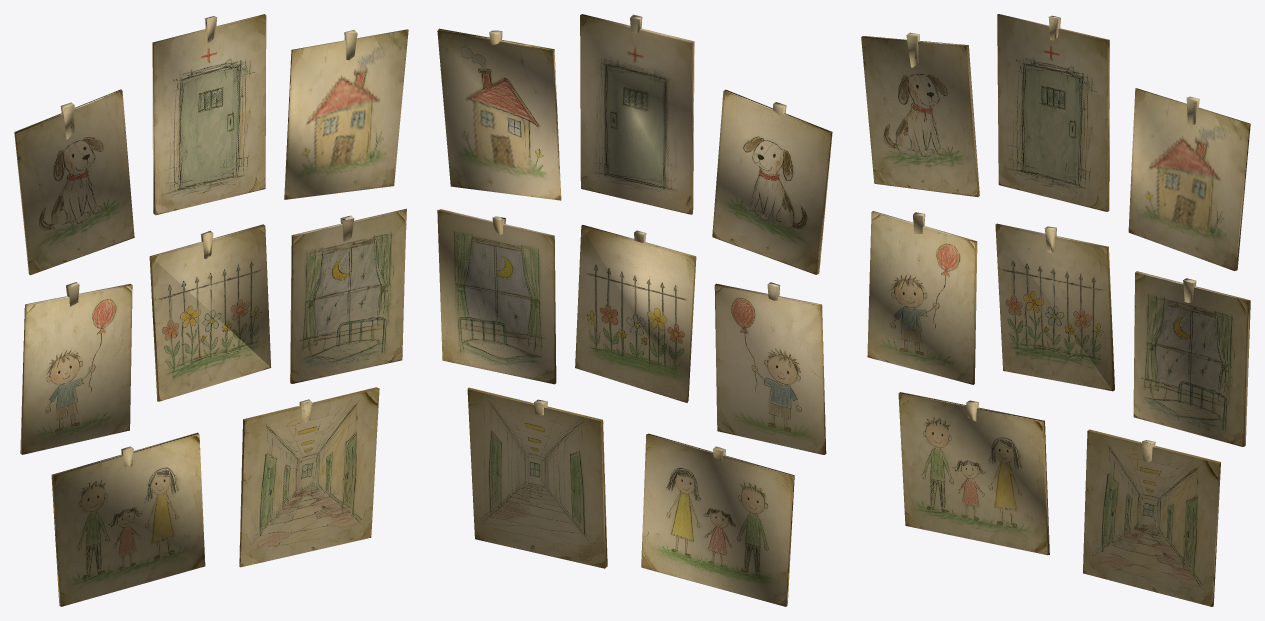
File: all picture.fbx
The picture shows the model from 3 angles, left to right: view 1: azimuth 30°, elevation 25°; view 2: azimuth 150°, elevation 25°; view 3: azimuth 330°, elevation 25°; orthographic projection.
Parts seen in each view (by area): view 1: all picture; view 2: all picture; view 3: all picture.
Boxes of the visible parts, <box> form: all picture: <box>14,14,408,606</box>; all picture: <box>437,14,832,606</box>; all picture: <box>861,14,1250,606</box>.
Bounding box in the file's own units: 575 × 784 × 9.92.
Materials: 1 (1 with a texture image).
